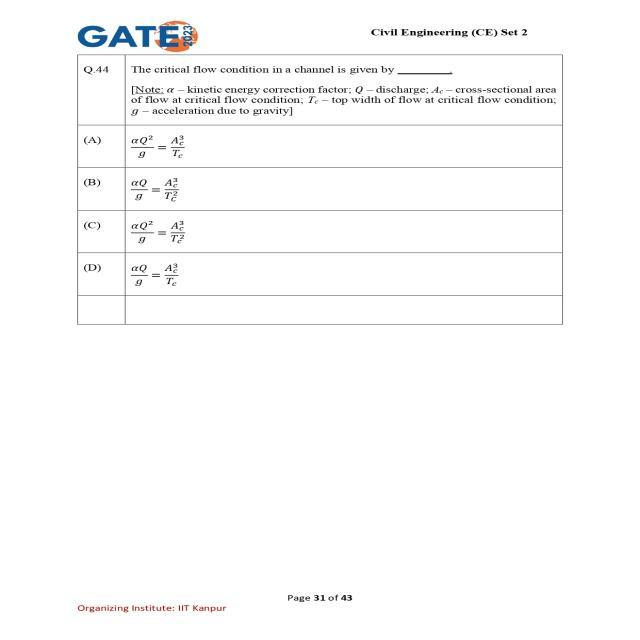Answer_Block: (45, 124, 593, 346)
Question_Answer_Block: (45, 50, 593, 346)
Question_Block: (45, 49, 593, 122)
Question_Paper_Area: (45, 50, 593, 346)
